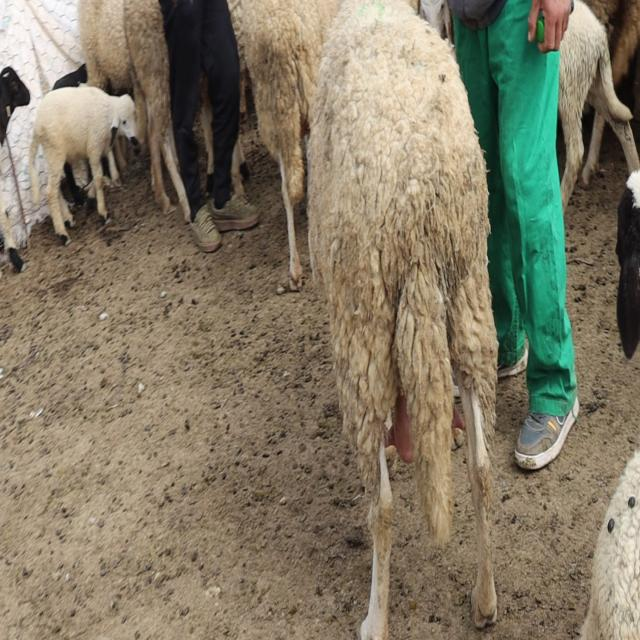Score_2: (307, 0, 498, 639)
